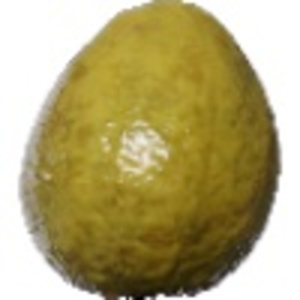goiaba: (8, 4, 289, 292)
